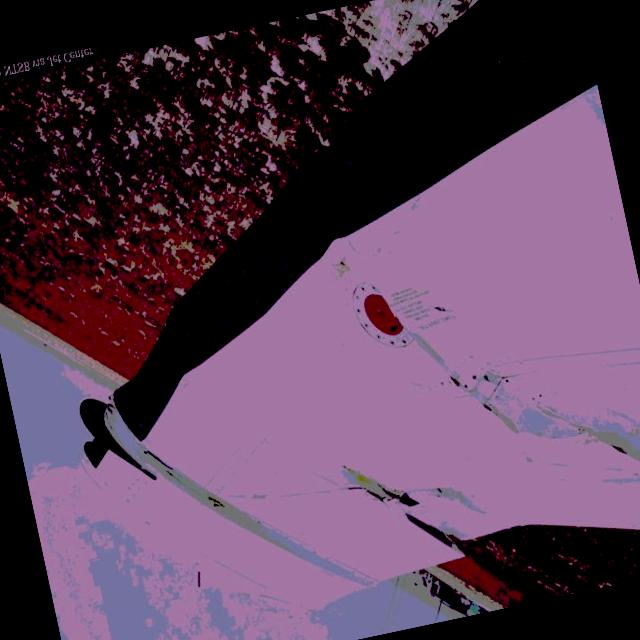crack: (340, 434, 490, 580), (404, 308, 524, 457), (534, 374, 640, 497)
